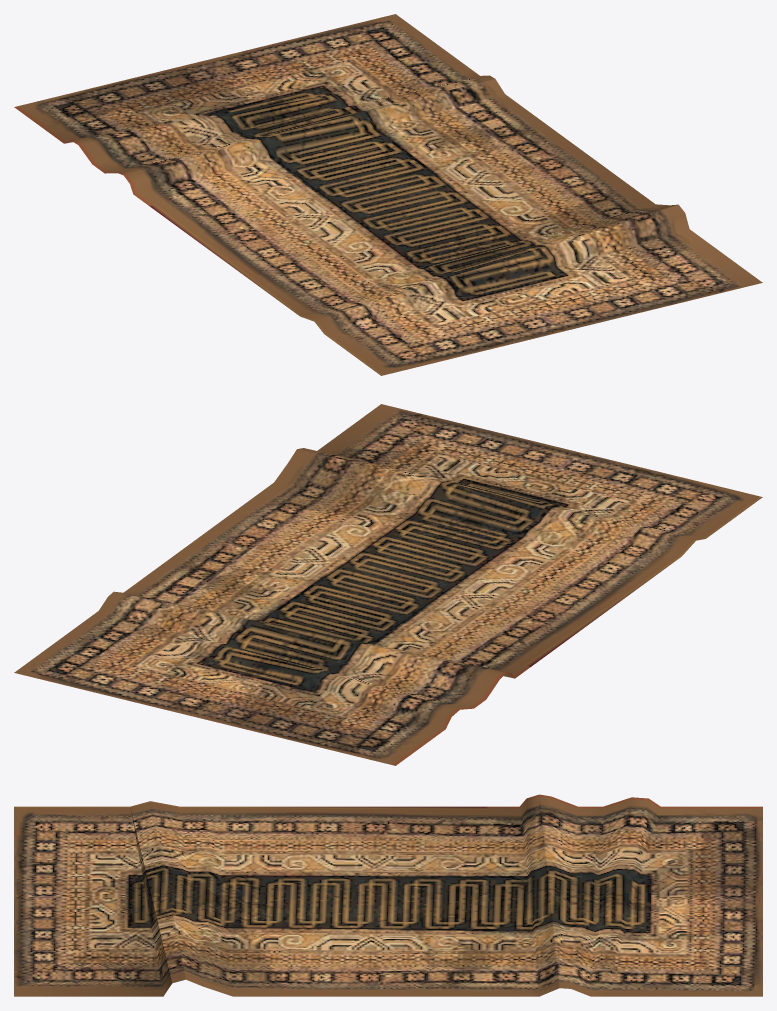
File: Rug02.FBX
3 renders of one model, top to bottom at view 1: azimuth 30°, elevation 25°; view 2: azimuth 150°, elevation 25°; view 3: azimuth 270°, elevation 25°, orthographic.
Parts seen in each view (by area): view 1: LV_Spechia_Object_Rugs02_SM_PJH; view 2: LV_Spechia_Object_Rugs02_SM_PJH; view 3: LV_Spechia_Object_Rugs02_SM_PJH.
Part boxes in pixels (<box>): LV_Spechia_Object_Rugs02_SM_PJH: <box>14,14,762,375</box>; LV_Spechia_Object_Rugs02_SM_PJH: <box>14,404,762,765</box>; LV_Spechia_Object_Rugs02_SM_PJH: <box>14,794,762,996</box>.
Bounding box in the file's own units: 72 × 2.98 × 120.
